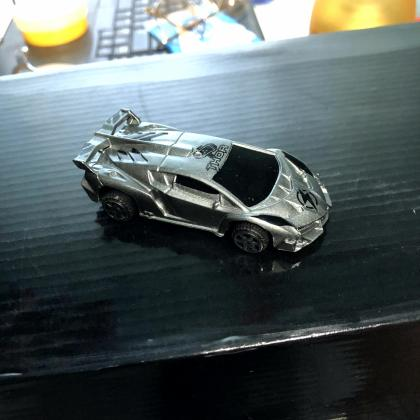Car: (73, 110, 332, 256)
